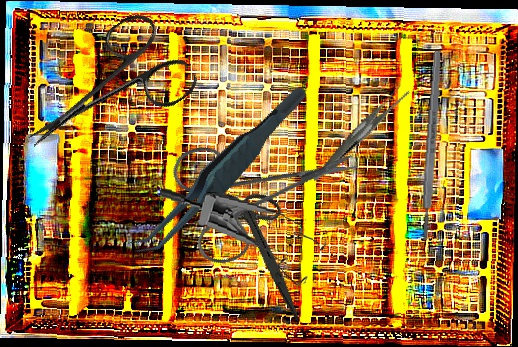Dressing Forceps: (292, 82, 427, 182)
Iris Scissors: (143, 84, 360, 301), (4, 4, 202, 185), (178, 171, 345, 322)
Scalpel Handle: (419, 50, 444, 241)
Speculum: (152, 186, 330, 288)
Tissue Forceps: (105, 84, 335, 262)
